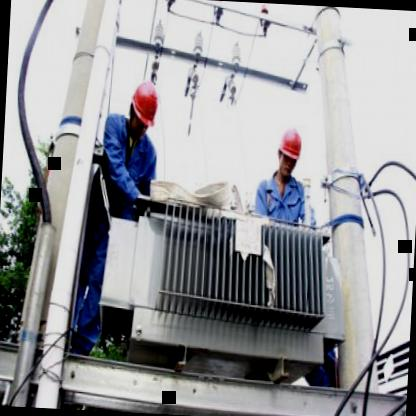helmet: (125, 75, 160, 140), (274, 122, 304, 180)
